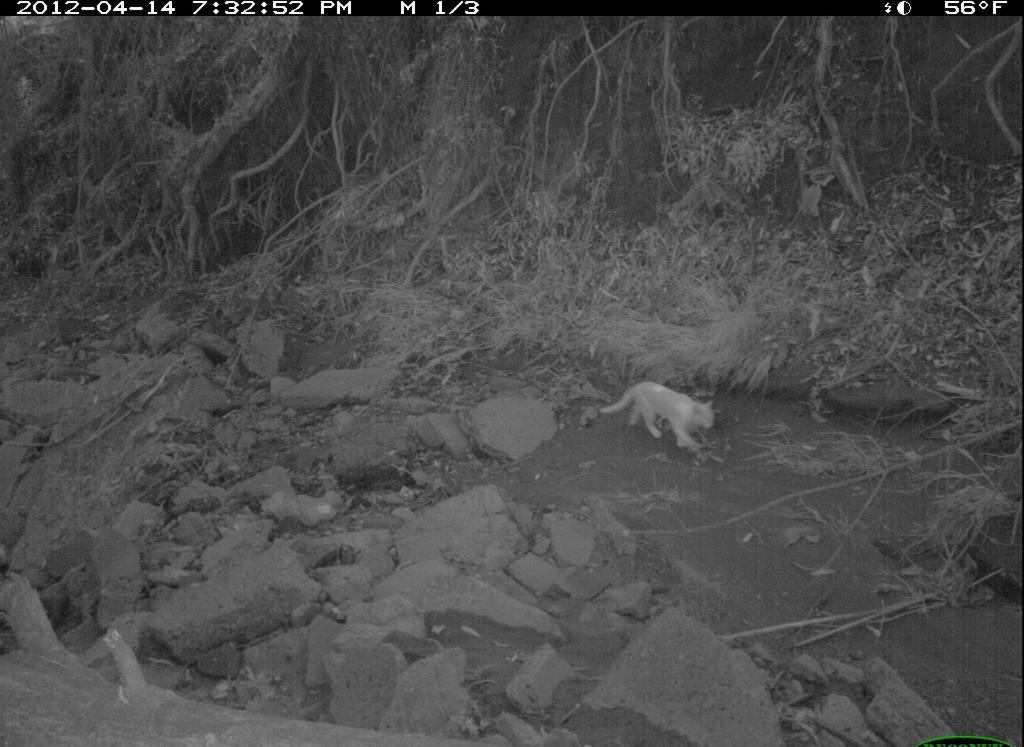cat: (593, 381, 725, 461)
